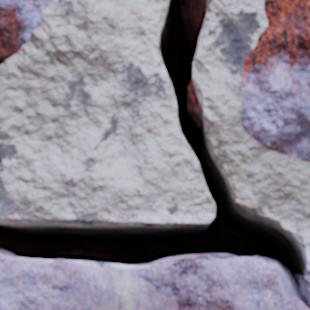brick: (241, 0, 309, 161), (0, 0, 51, 63)
broken_brick: (0, 255, 309, 309)
crack: (0, 0, 309, 307)
